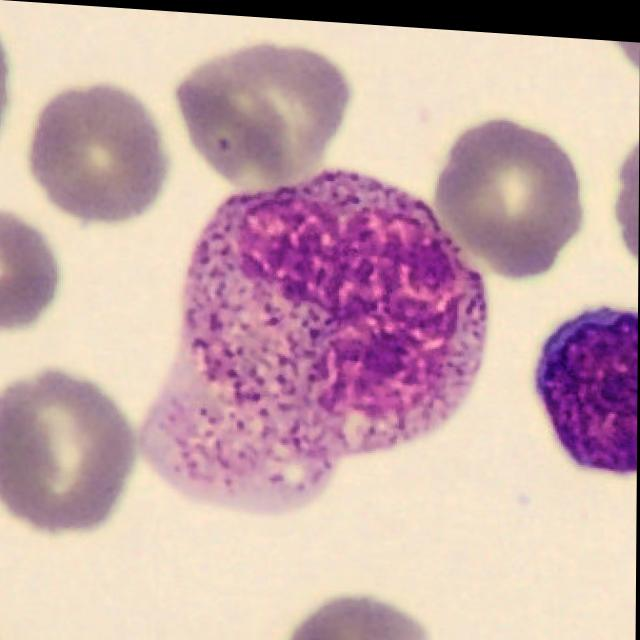Linfocito: (535, 295, 638, 464)
